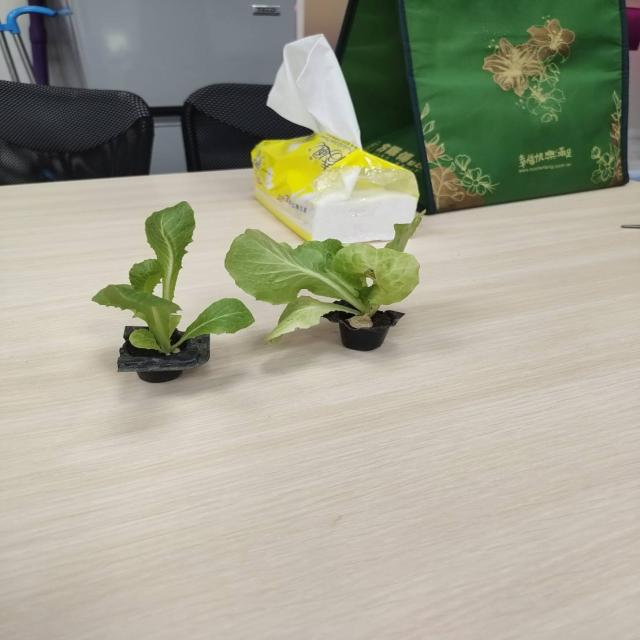Lettuce-Not-Ready-to-Harvest: (225, 215, 421, 342), (93, 202, 253, 354)
